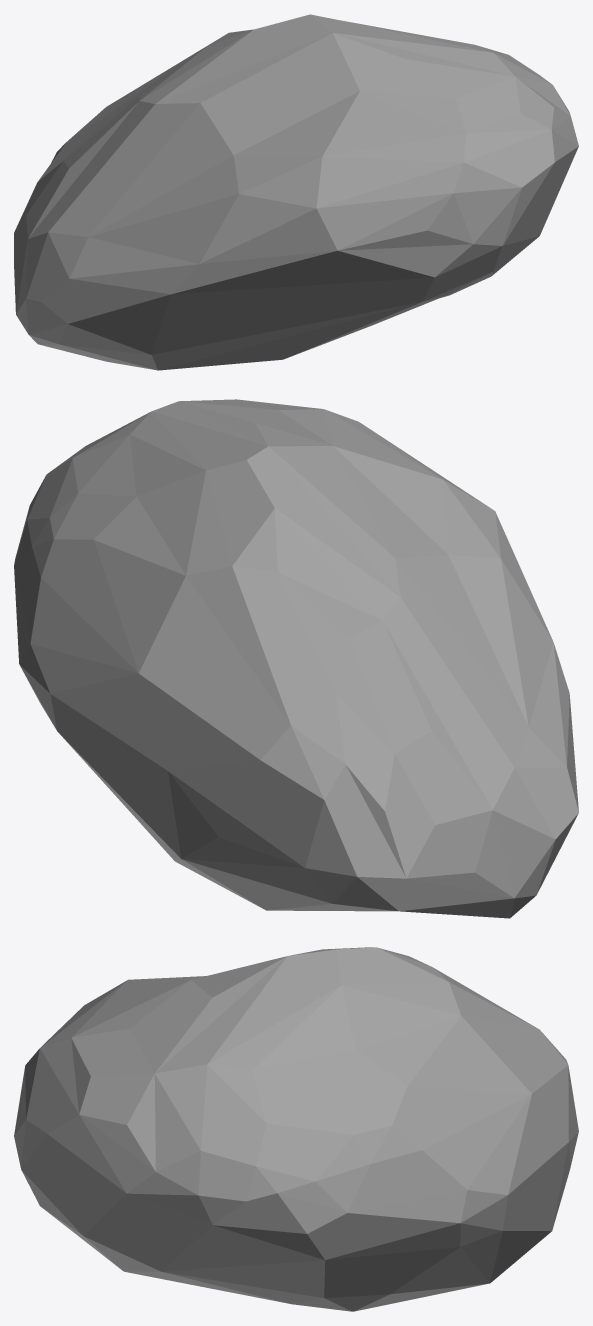
File: Rock_017.glb
The picture shows the model from 3 angles, top to bottom: view 1: azimuth 30°, elevation 25°; view 2: azimuth 150°, elevation 25°; view 3: azimuth 270°, elevation 25°; orthographic projection. The views are drawn at different scales.
Visible parts, largest first — view 1: Rock_017; view 2: Rock_017; view 3: Rock_017.
Boxes of the visible parts, x1=… form: Rock_017: x1=14, y1=14, x2=578, y2=370; Rock_017: x1=14, y1=399, x2=578, y2=918; Rock_017: x1=14, y1=947, x2=578, y2=1311.
Size of the model in its own units: 1.08 by 0.6953 by 0.9205.
Materials: 1 (1 with a texture image).
